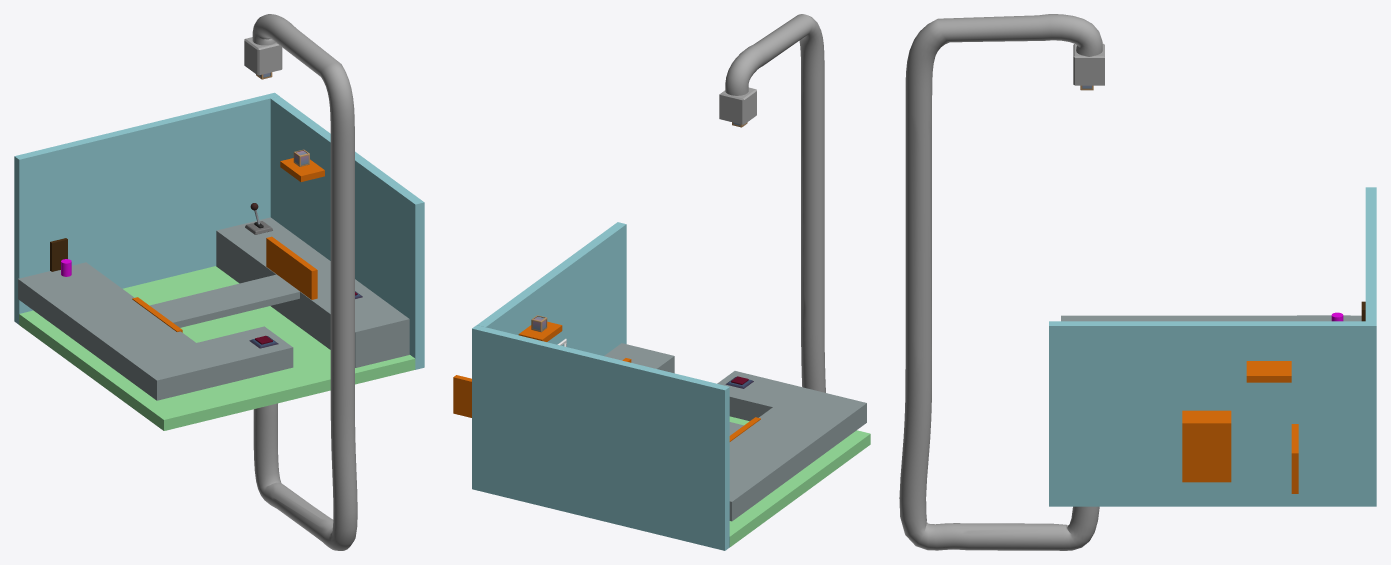
The model's file is Level[PadsNWalls].fbx.
3 views of the same model, side by side, from view 1: azimuth 30°, elevation 25°; view 2: azimuth 150°, elevation 25°; view 3: azimuth 270°, elevation 25° (orthographic). The views are drawn at different scales.
Parts seen in each view (by area): view 1: wall2, pCylinder1, wall1, voidWall, platform4, platform1, bridge, platform3, drawWall2, platform, pCube1, drawWall10; view 2: wall2, pCylinder1, wall1, platform4, voidWall, platform3, platform, pCube1, platform1, drawWall9; view 3: wall1, pCylinder1, wall2, drawWall3, platform4, pCube1, drawWall10.
Boxes of the visible parts, x1=… form: wall2: x1=14, y1=92, x2=279, y2=324; pCylinder1: x1=252, y1=14, x2=357, y2=550; wall1: x1=270, y1=96, x2=424, y2=369; voidWall: x1=19, y1=266, x2=415, y2=430; platform4: x1=18, y1=262, x2=224, y2=400; platform1: x1=216, y1=217, x2=409, y2=367; bridge: x1=149, y1=274, x2=299, y2=327; platform3: x1=197, y1=326, x2=293, y2=383; drawWall2: x1=266, y1=236, x2=317, y2=299; platform: x1=18, y1=264, x2=86, y2=321; pCube1: x1=244, y1=37, x2=282, y2=75; drawWall10: x1=280, y1=158, x2=324, y2=181; wall2: x1=472, y1=325, x2=729, y2=550; pCylinder1: x1=725, y1=14, x2=825, y2=392; wall1: x1=477, y1=222, x2=626, y2=355; platform4: x1=729, y1=387, x2=866, y2=521; voidWall: x1=729, y1=416, x2=870, y2=547; platform3: x1=717, y1=371, x2=800, y2=421; platform: x1=729, y1=472, x2=762, y2=520; pCube1: x1=719, y1=87, x2=756, y2=124; platform1: x1=604, y1=343, x2=674, y2=373; drawWall9: x1=453, y1=375, x2=471, y2=417; wall1: x1=1049, y1=321, x2=1365, y2=506; pCylinder1: x1=899, y1=14, x2=1102, y2=550; wall2: x1=1365, y1=187, x2=1376, y2=506; drawWall3: x1=1182, y1=410, x2=1231, y2=482; platform4: x1=1061, y1=315, x2=1360, y2=321; pCube1: x1=1073, y1=43, x2=1104, y2=85; drawWall10: x1=1246, y1=361, x2=1291, y2=382.
Bounding box in the file's own units: 30.04 × 44.26 × 35.79.
